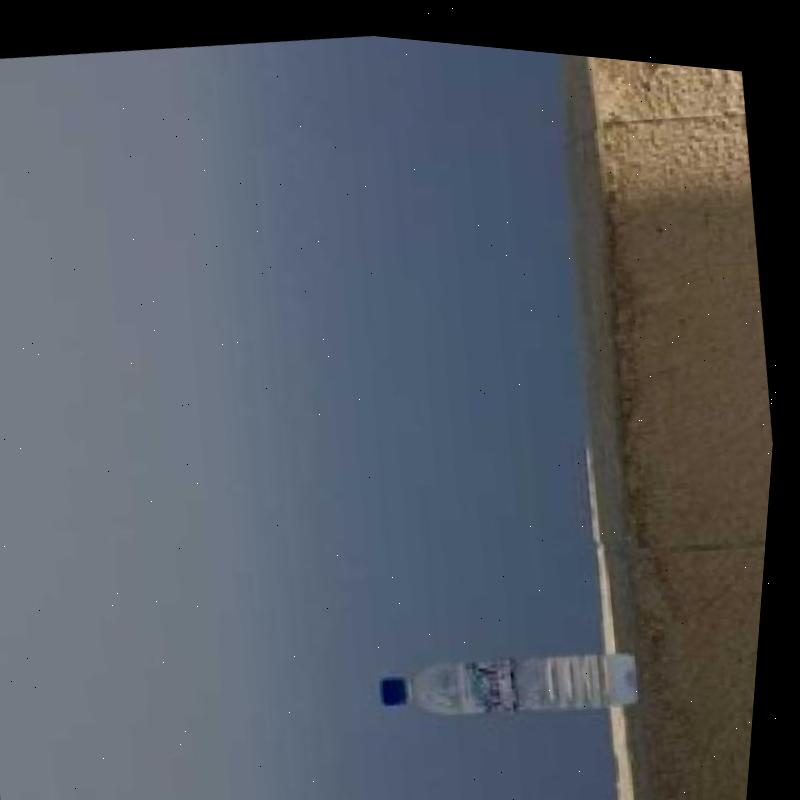botella: (383, 618, 656, 738)
